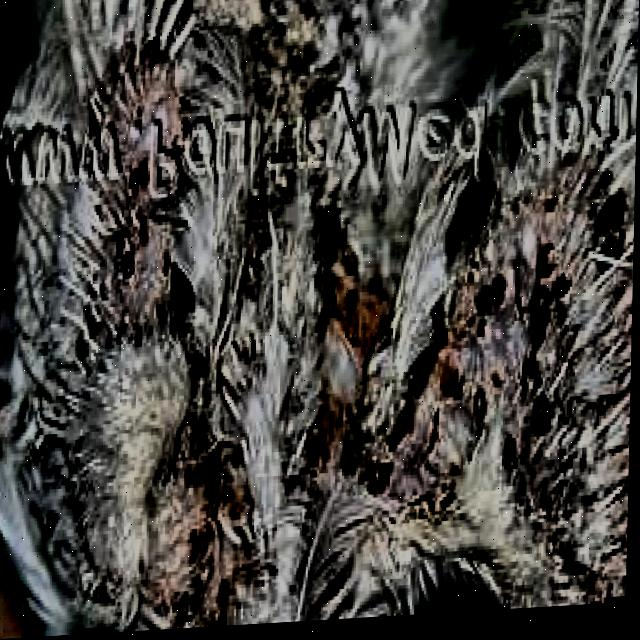Fowlpox: (83, 190, 636, 461)
